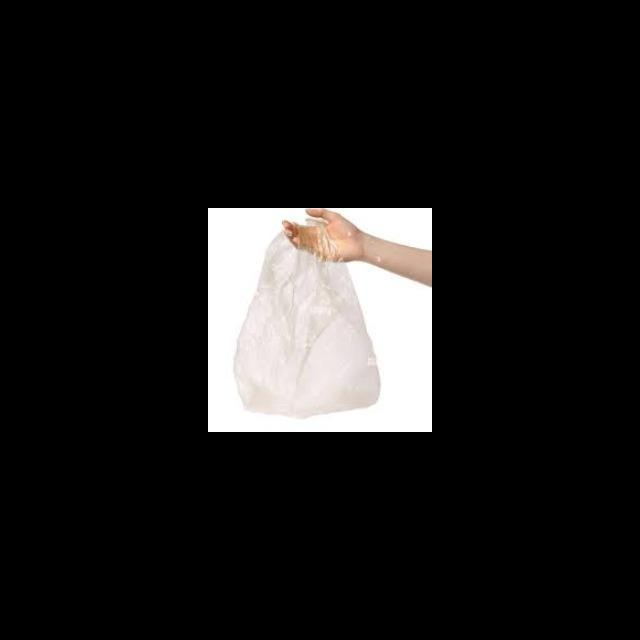plastic: (232, 217, 387, 416)
